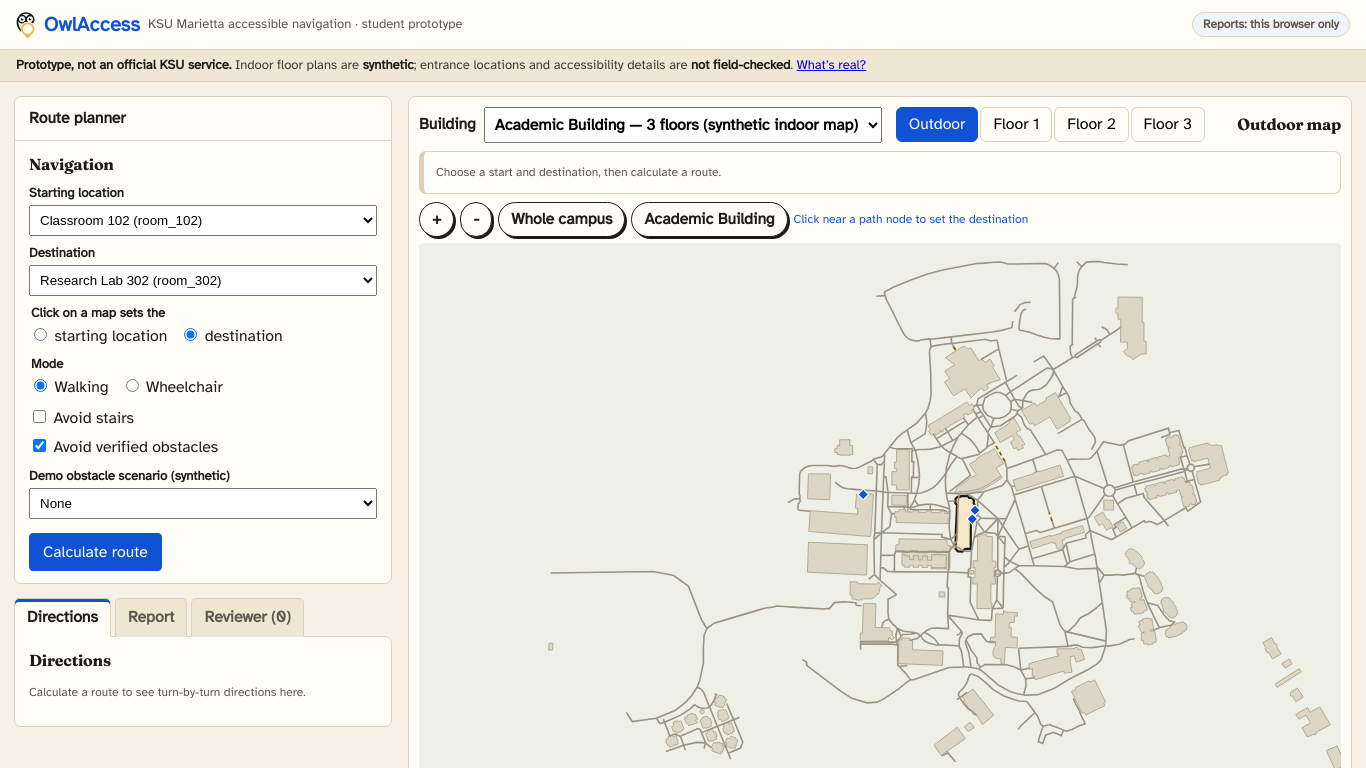
Scenario: NavigationApp component behaviour (jsdom, not a real browser) › wheelchair mode: Avoid stairs is forced on and route uses the elevator
This screenshot has width=1366, height=768.
Later steps or results of the test are not shown.
What coordinates should you click on to do the following:
click the radio button labelled "Wheelchair"
I would click on:
 (132, 386)
Its box is [126,379,138,392].
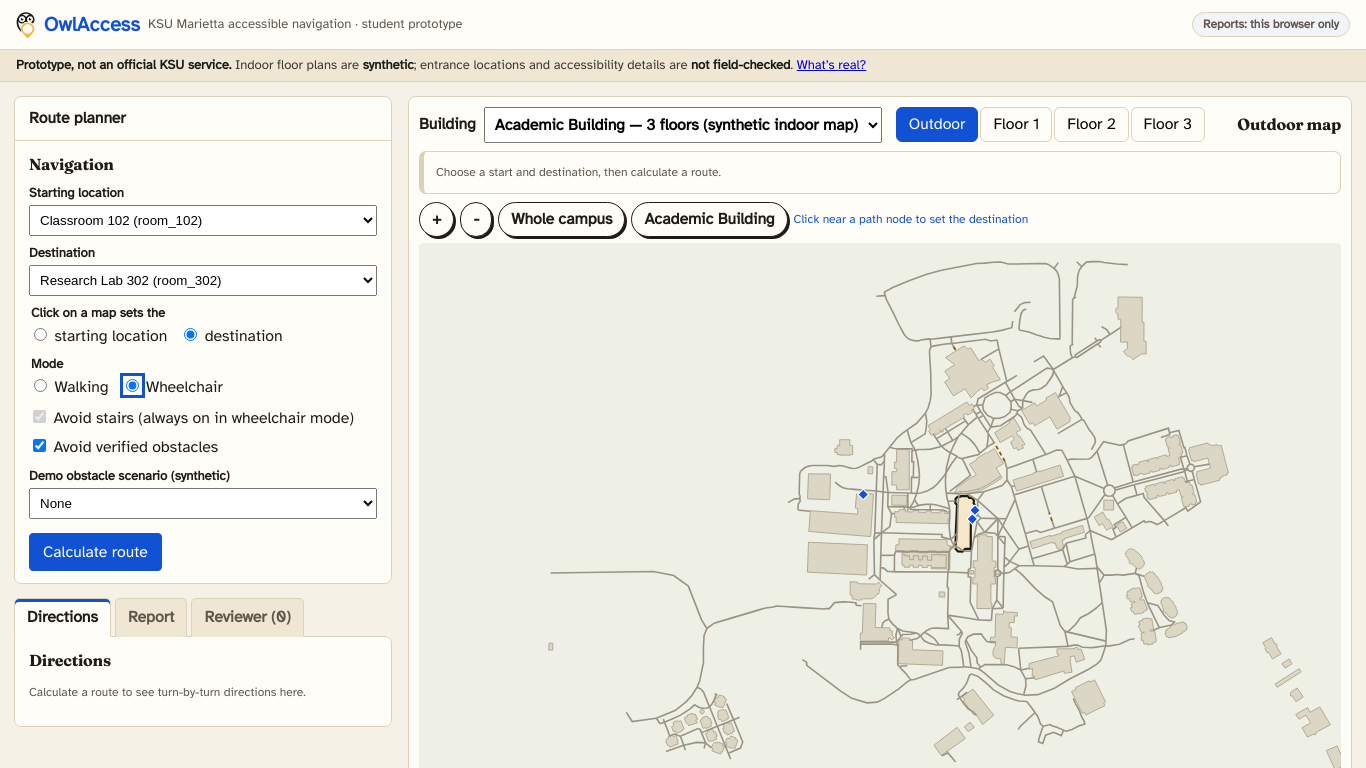
Expected: the checkbox labelled "Avoid stairs (always on in wheelchair mode)" is checked, [33,410,46,423]
